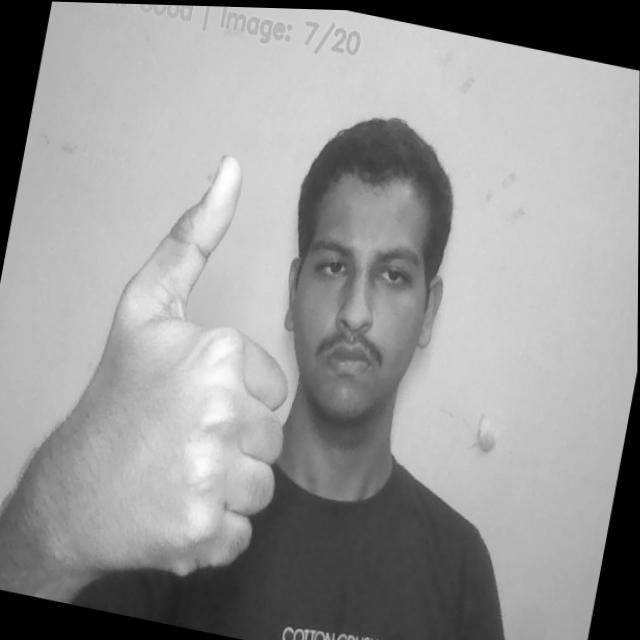Good: (51, 134, 331, 593)
